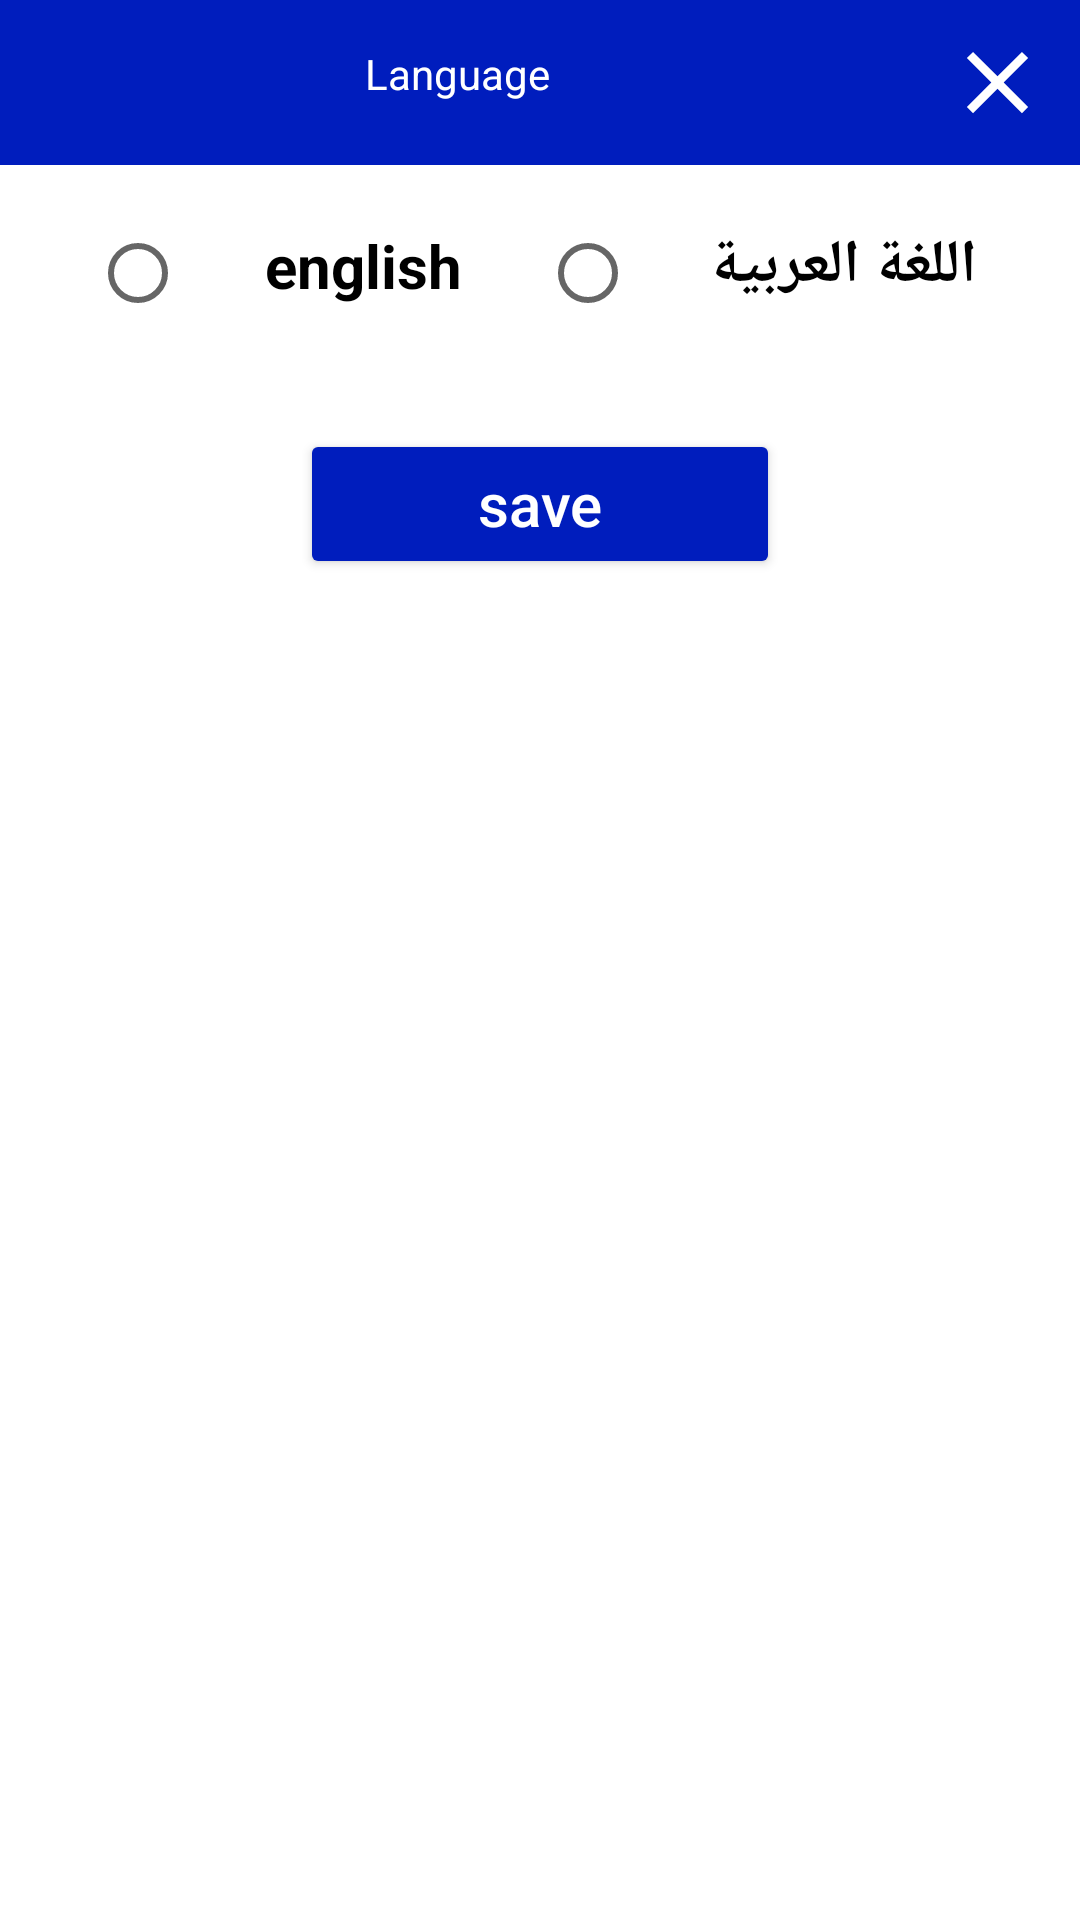

Icons on this 1080×1920 Android screen, each with the point to tap as [x,y]:
close: [997,82]
